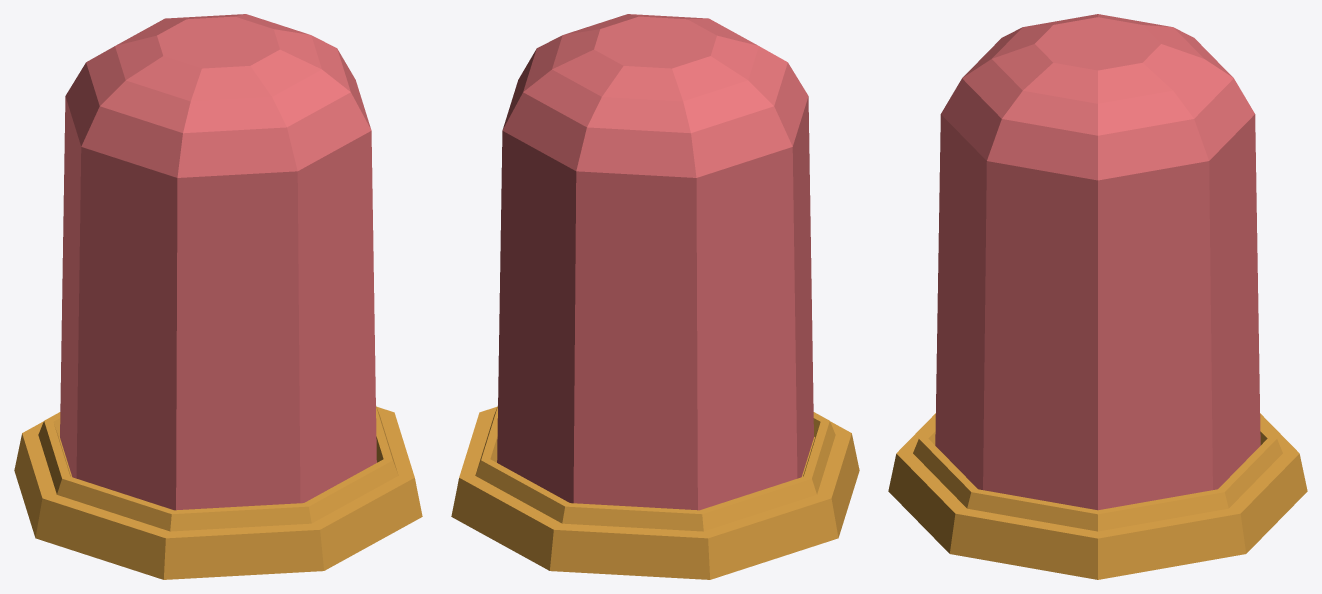
The model's file is SM_Display_Glass_Frog.fbx.
3 renders of one model, left to right at view 1: azimuth 30°, elevation 25°; view 2: azimuth 150°, elevation 25°; view 3: azimuth 270°, elevation 25°, orthographic.
Parts seen in each view (by area): view 1: display-glass-frog; view 2: display-glass-frog; view 3: display-glass-frog.
Part boxes in pixels (x1,y1,x2,y2): display-glass-frog: [14, 14, 422, 579]; display-glass-frog: [451, 14, 859, 579]; display-glass-frog: [888, 14, 1307, 579].
Bounding box in the file's own units: 0.3 × 0.3533 × 0.3.
